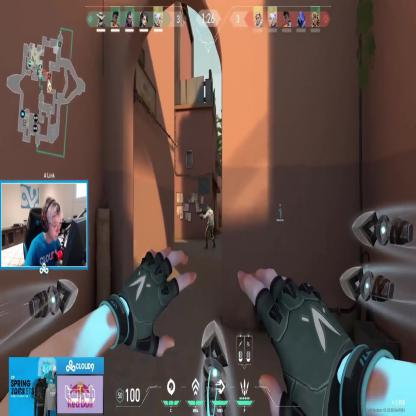enemy: (204, 204, 216, 249)
enemy_head: (207, 204, 211, 211)
